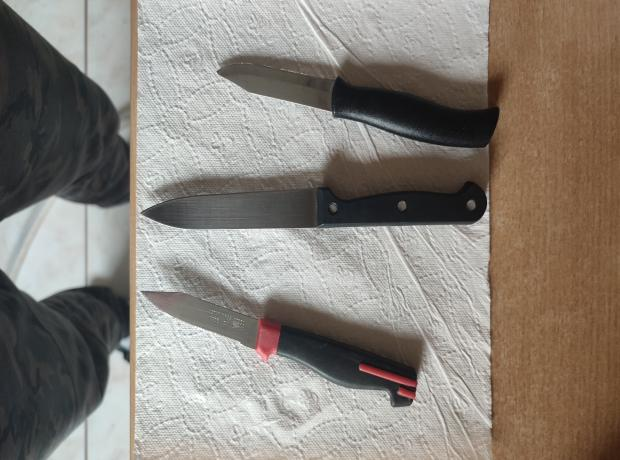metal: (141, 288, 418, 407), (216, 61, 500, 148), (140, 181, 487, 229)
